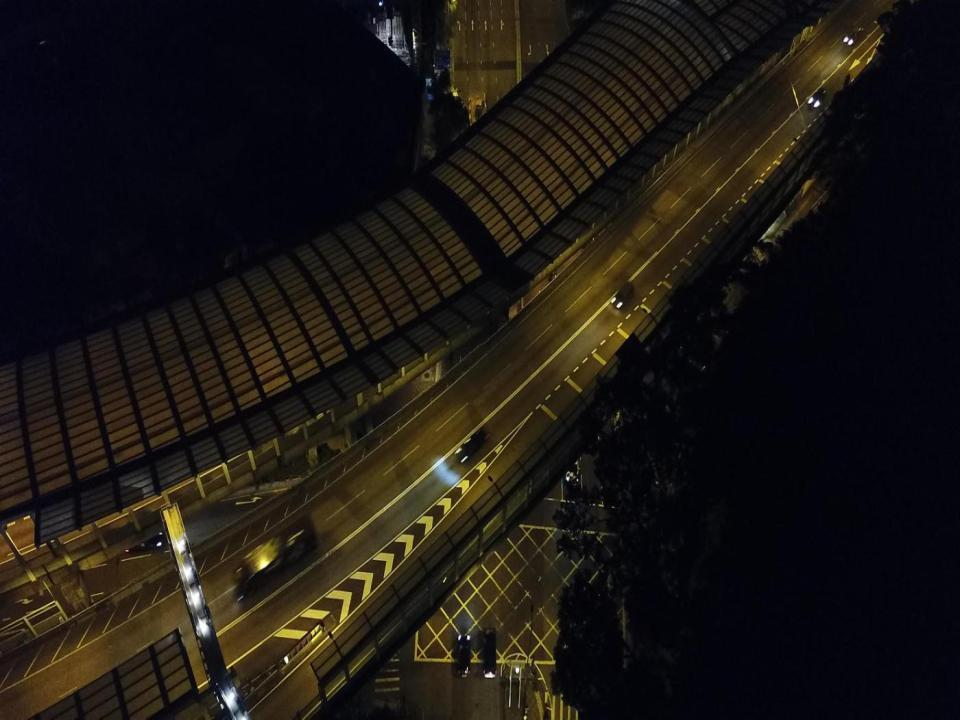car: (233, 511, 319, 598), (122, 522, 164, 554), (454, 425, 488, 463), (482, 629, 497, 678), (611, 280, 635, 310), (457, 634, 471, 678), (564, 450, 580, 487), (806, 85, 827, 111), (843, 23, 865, 46)
